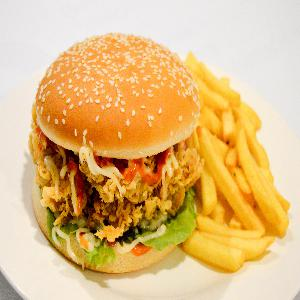cheeseburger_475cal: (26, 24, 205, 277)
fries_350cal: (196, 58, 296, 276)
